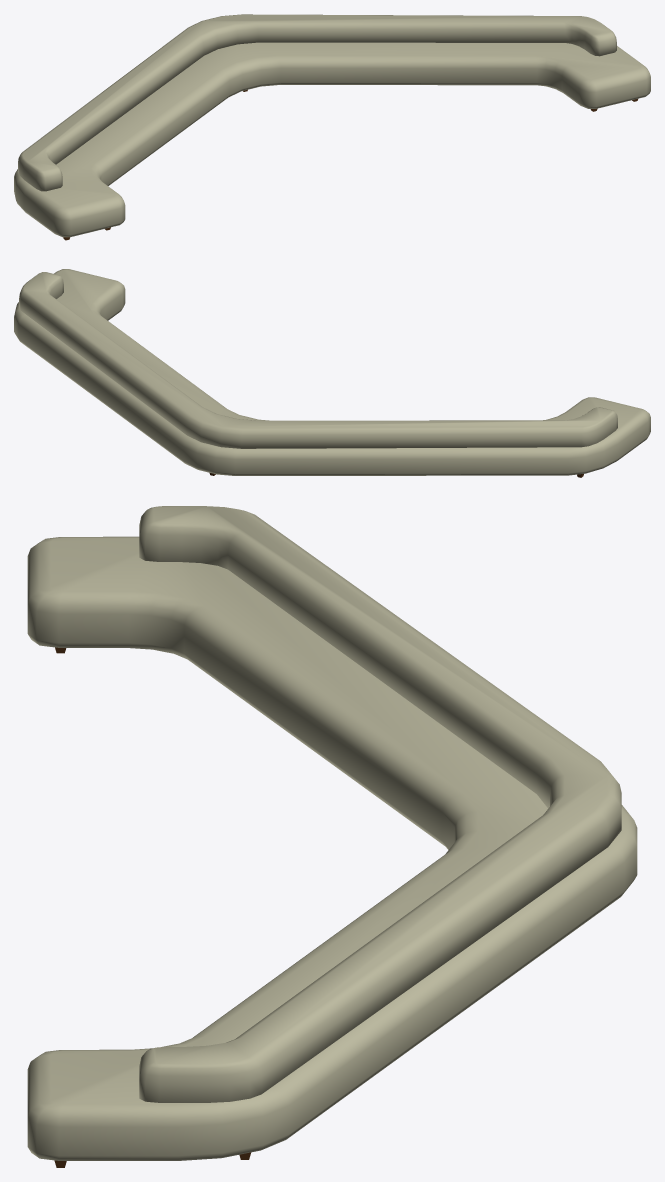
File: hunters_wimb_couch.fbx
3 views of the same model, one above another, from view 1: azimuth 30°, elevation 25°; view 2: azimuth 150°, elevation 25°; view 3: azimuth 270°, elevation 25° (orthographic). The views are drawn at different scales.
Parts seen in each view (by area): view 1: Couch, CouchBack; view 2: Couch, CouchBack; view 3: Couch, CouchBack.
Part boxes in pixels (x1=…): Couch: x1=14, y1=42, x2=650, y2=237; CouchBack: x1=18, y1=14, x2=616, y2=191; Couch: x1=14, y1=269, x2=650, y2=475; CouchBack: x1=19, y1=272, x2=617, y2=448; Couch: x1=27, y1=536, x2=637, y2=1160; CouchBack: x1=139, y1=506, x2=621, y2=1102.
Size of the model in its own units: 553 by 45.83 by 246.
